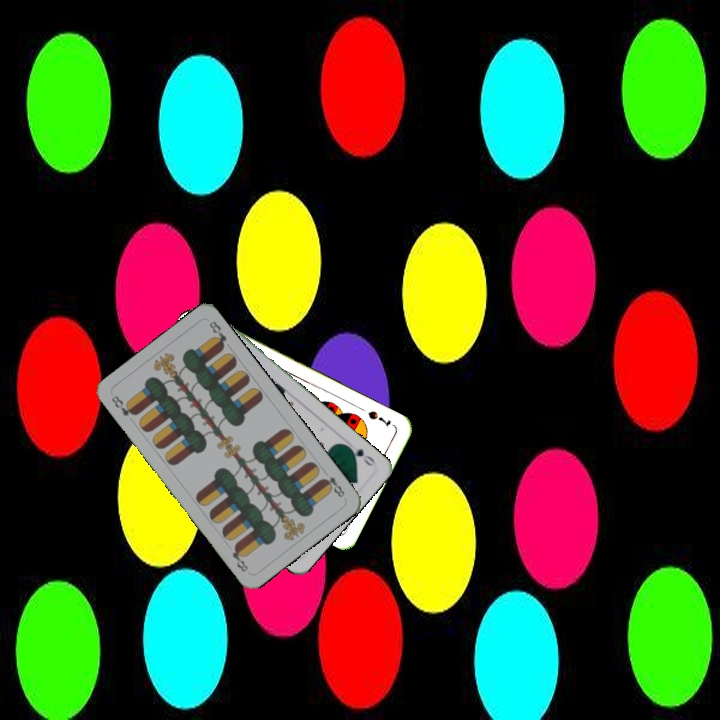E8: (318, 466, 347, 500), (107, 391, 139, 419)
GO: (342, 441, 378, 469)
S7: (364, 406, 393, 429)
